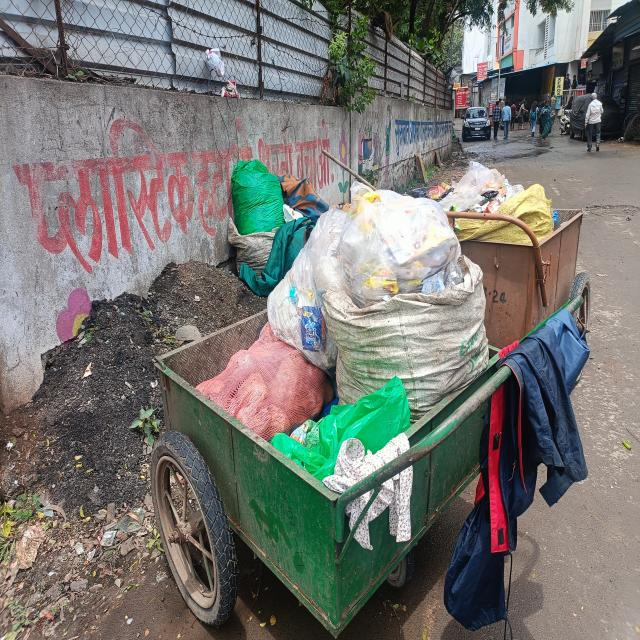garbage: (221, 173, 543, 466)
